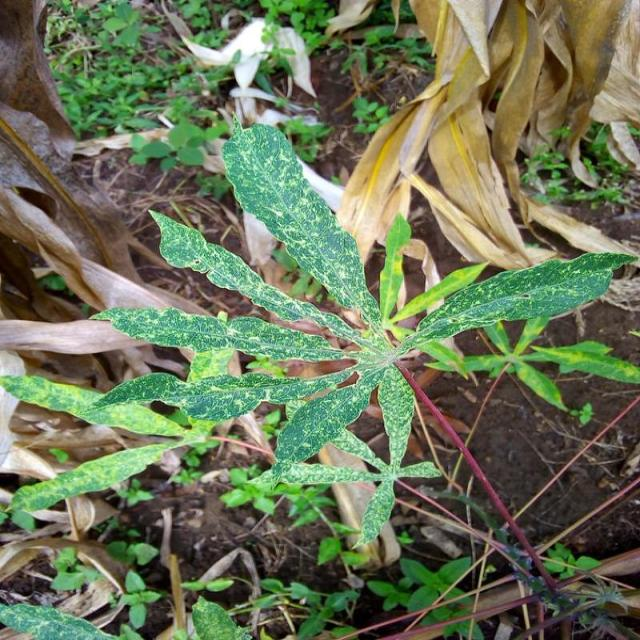cassava leaf: (2, 112, 638, 551), (220, 113, 382, 329)
